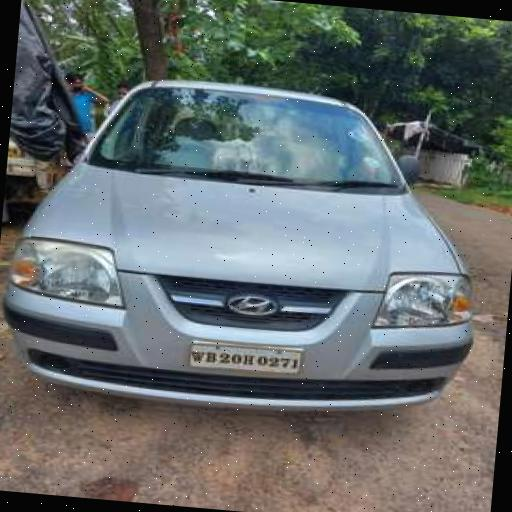license_plate`: (188, 341, 298, 374)
